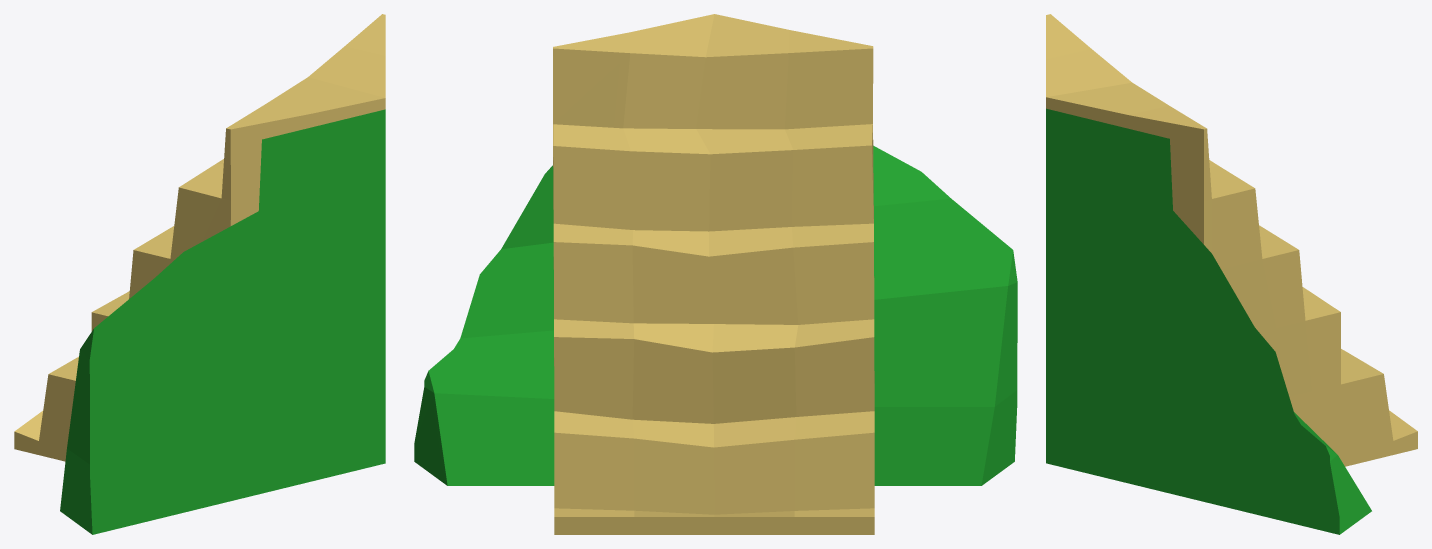
File: module-corner_land_cliff_big_stairs_001.glb
3 renders of one model, left to right at view 1: azimuth 30°, elevation 25°; view 2: azimuth 150°, elevation 25°; view 3: azimuth 270°, elevation 25°, orthographic. The views are drawn at different scales.
Parts seen in each view (by area): view 1: module-corner_land_cliff_big_stairs_001; view 2: module-corner_land_cliff_big_stairs_001; view 3: module-corner_land_cliff_big_stairs_001.
Part boxes in pixels (x1=…): module-corner_land_cliff_big_stairs_001: x1=14, y1=14, x2=385, y2=534; module-corner_land_cliff_big_stairs_001: x1=414, y1=14, x2=1017, y2=534; module-corner_land_cliff_big_stairs_001: x1=1046, y1=14, x2=1417, y2=534.
Size of the model in its own units: 0.654 by 0.525 by 0.475.
